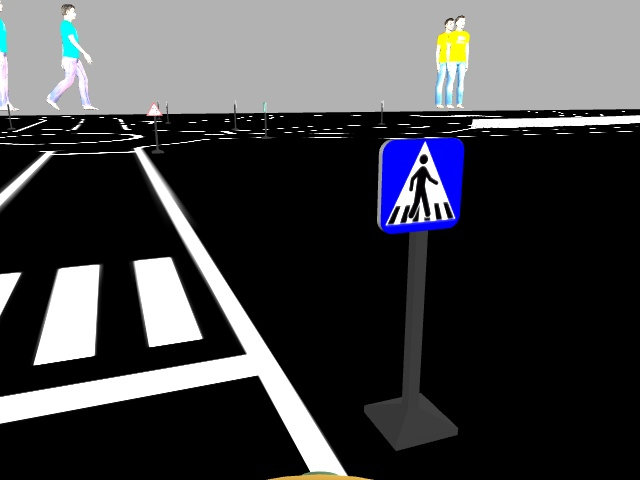Crosswalk: (376, 139, 465, 233)
